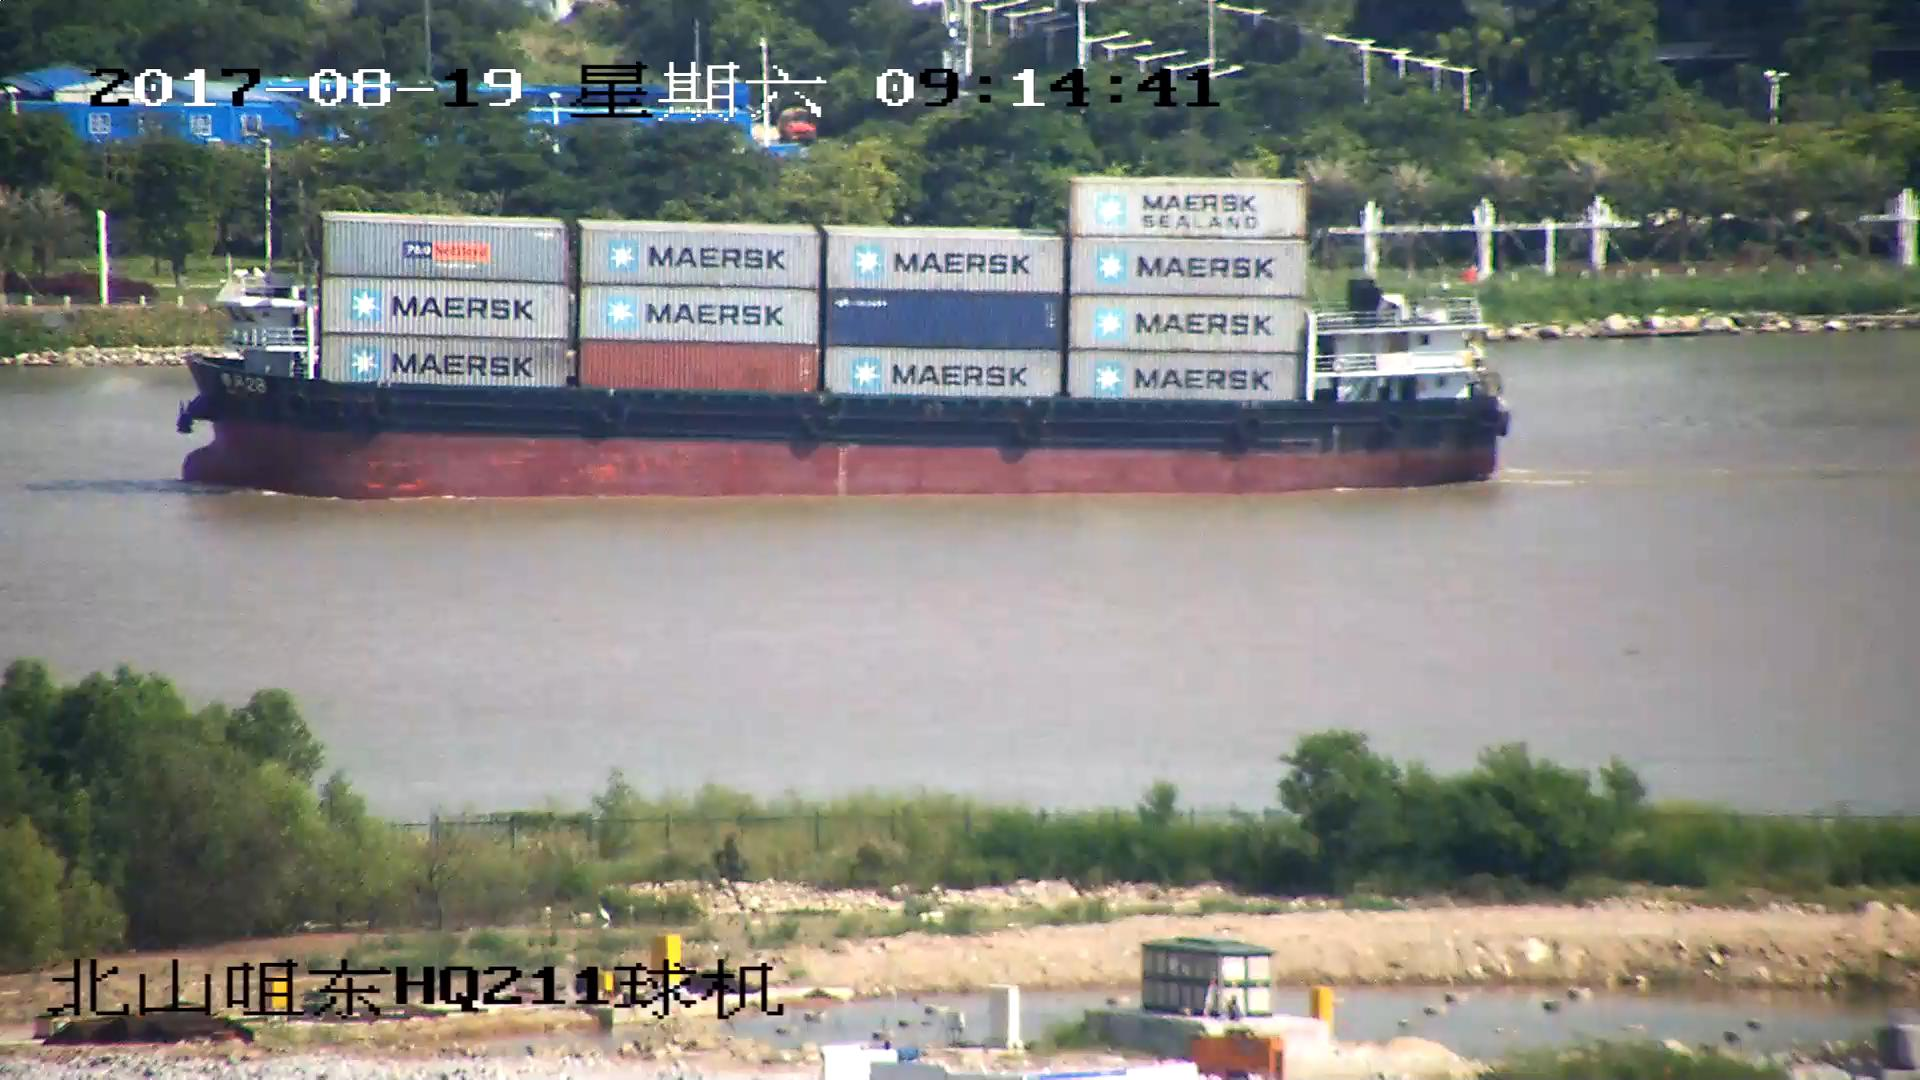container ship: (180, 173, 1510, 495)
